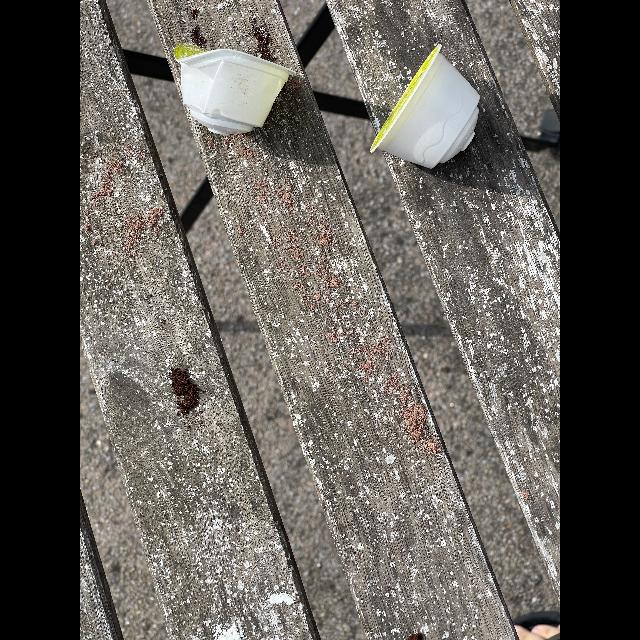damaged_capsule: (160, 32, 306, 150)
intact_capsule: (360, 36, 488, 186)
